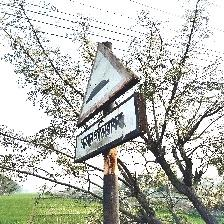Speed-breaker: (74, 43, 144, 164)
